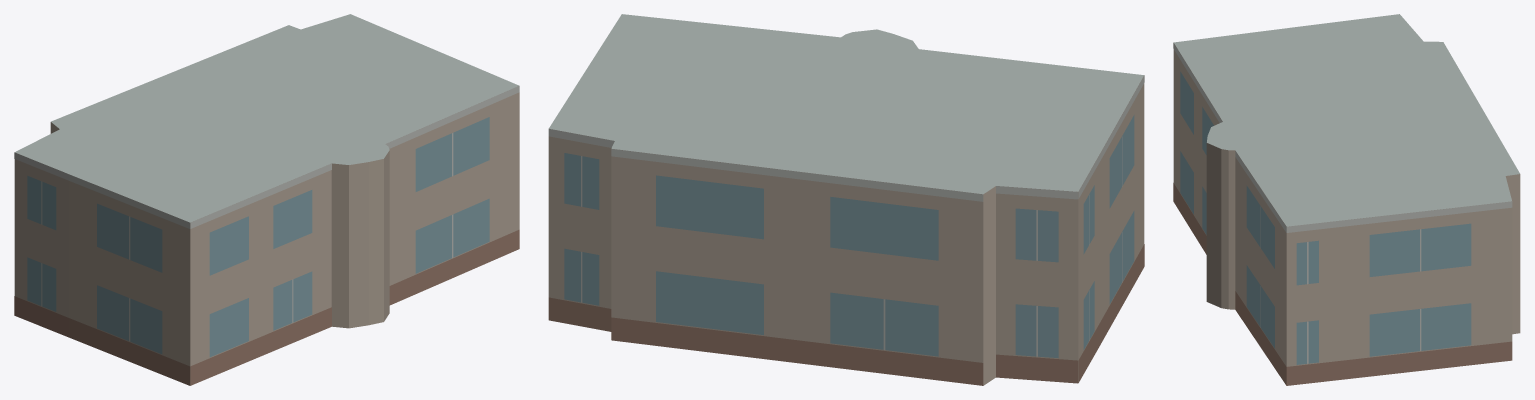
The model's file is survey-upis-32624087.glb.
3 renders of one model, left to right at view 1: azimuth 30°, elevation 25°; view 2: azimuth 150°, elevation 25°; view 3: azimuth 270°, elevation 25°, orthographic. The views are drawn at different scales.
Visible parts, largest first — view 1: survey-upis-32624087.tmp; view 2: survey-upis-32624087.tmp; view 3: survey-upis-32624087.tmp.
Part boxes in pixels (x1=…): survey-upis-32624087.tmp: x1=14, y1=14, x2=519, y2=385; survey-upis-32624087.tmp: x1=548, y1=14, x2=1144, y2=385; survey-upis-32624087.tmp: x1=1173, y1=14, x2=1520, y2=385.
Size of the model in its own units: 17.49 by 6.1 by 12.05.
